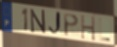1: (20, 7, 29, 32)
H: (80, 14, 96, 42)
J: (48, 11, 63, 38)
L: (99, 18, 111, 43)
N: (30, 9, 47, 35)
P: (63, 13, 80, 38)
